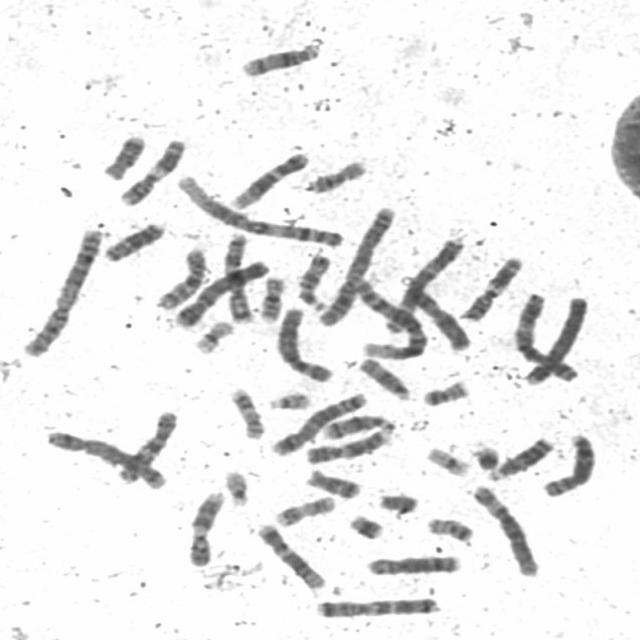A1: (172, 170, 348, 249), (349, 274, 429, 361)
A2: (16, 224, 105, 359), (312, 202, 398, 328)
A3: (379, 234, 467, 335), (511, 288, 583, 385)
B4: (170, 254, 271, 328), (517, 290, 589, 386)
B5: (41, 426, 170, 492), (267, 388, 370, 457)
C10: (114, 406, 181, 485), (151, 243, 209, 311)
C11: (116, 134, 190, 207), (455, 251, 525, 323)
C12: (226, 147, 313, 210), (252, 519, 328, 591)
C6: (467, 480, 542, 578), (272, 302, 336, 384)
C7: (218, 228, 256, 324), (311, 593, 443, 620)
C8: (538, 428, 600, 498), (361, 550, 464, 577)
C9: (299, 424, 394, 465), (183, 487, 228, 568)
D13: (483, 433, 556, 482), (101, 217, 168, 263)
D14: (235, 38, 324, 78), (319, 410, 397, 440)
D15: (354, 353, 414, 402), (292, 249, 333, 311)
E16: (302, 156, 370, 195), (255, 270, 288, 324)
E17: (270, 491, 338, 528), (225, 383, 268, 441)
E18: (99, 130, 148, 182), (303, 464, 364, 500)
F19: (190, 316, 238, 356), (422, 442, 473, 478)
F20: (418, 376, 473, 408), (422, 512, 476, 544)
G21: (344, 510, 388, 541), (469, 441, 502, 472)
G22: (220, 466, 252, 508), (264, 387, 313, 412)
X: (395, 274, 473, 352)
Y: (374, 489, 421, 514)
